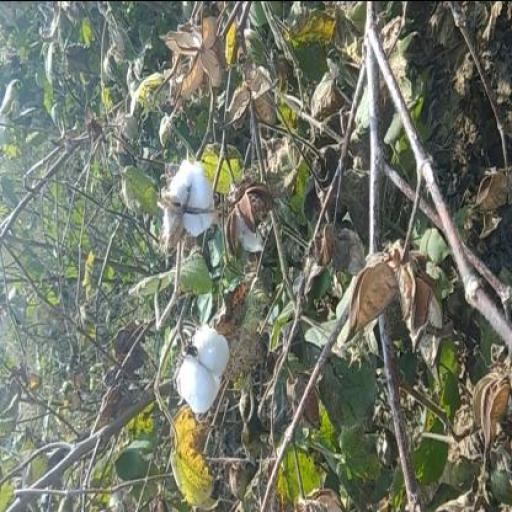cotton_ready: (152, 138, 242, 276), (186, 300, 246, 414)
